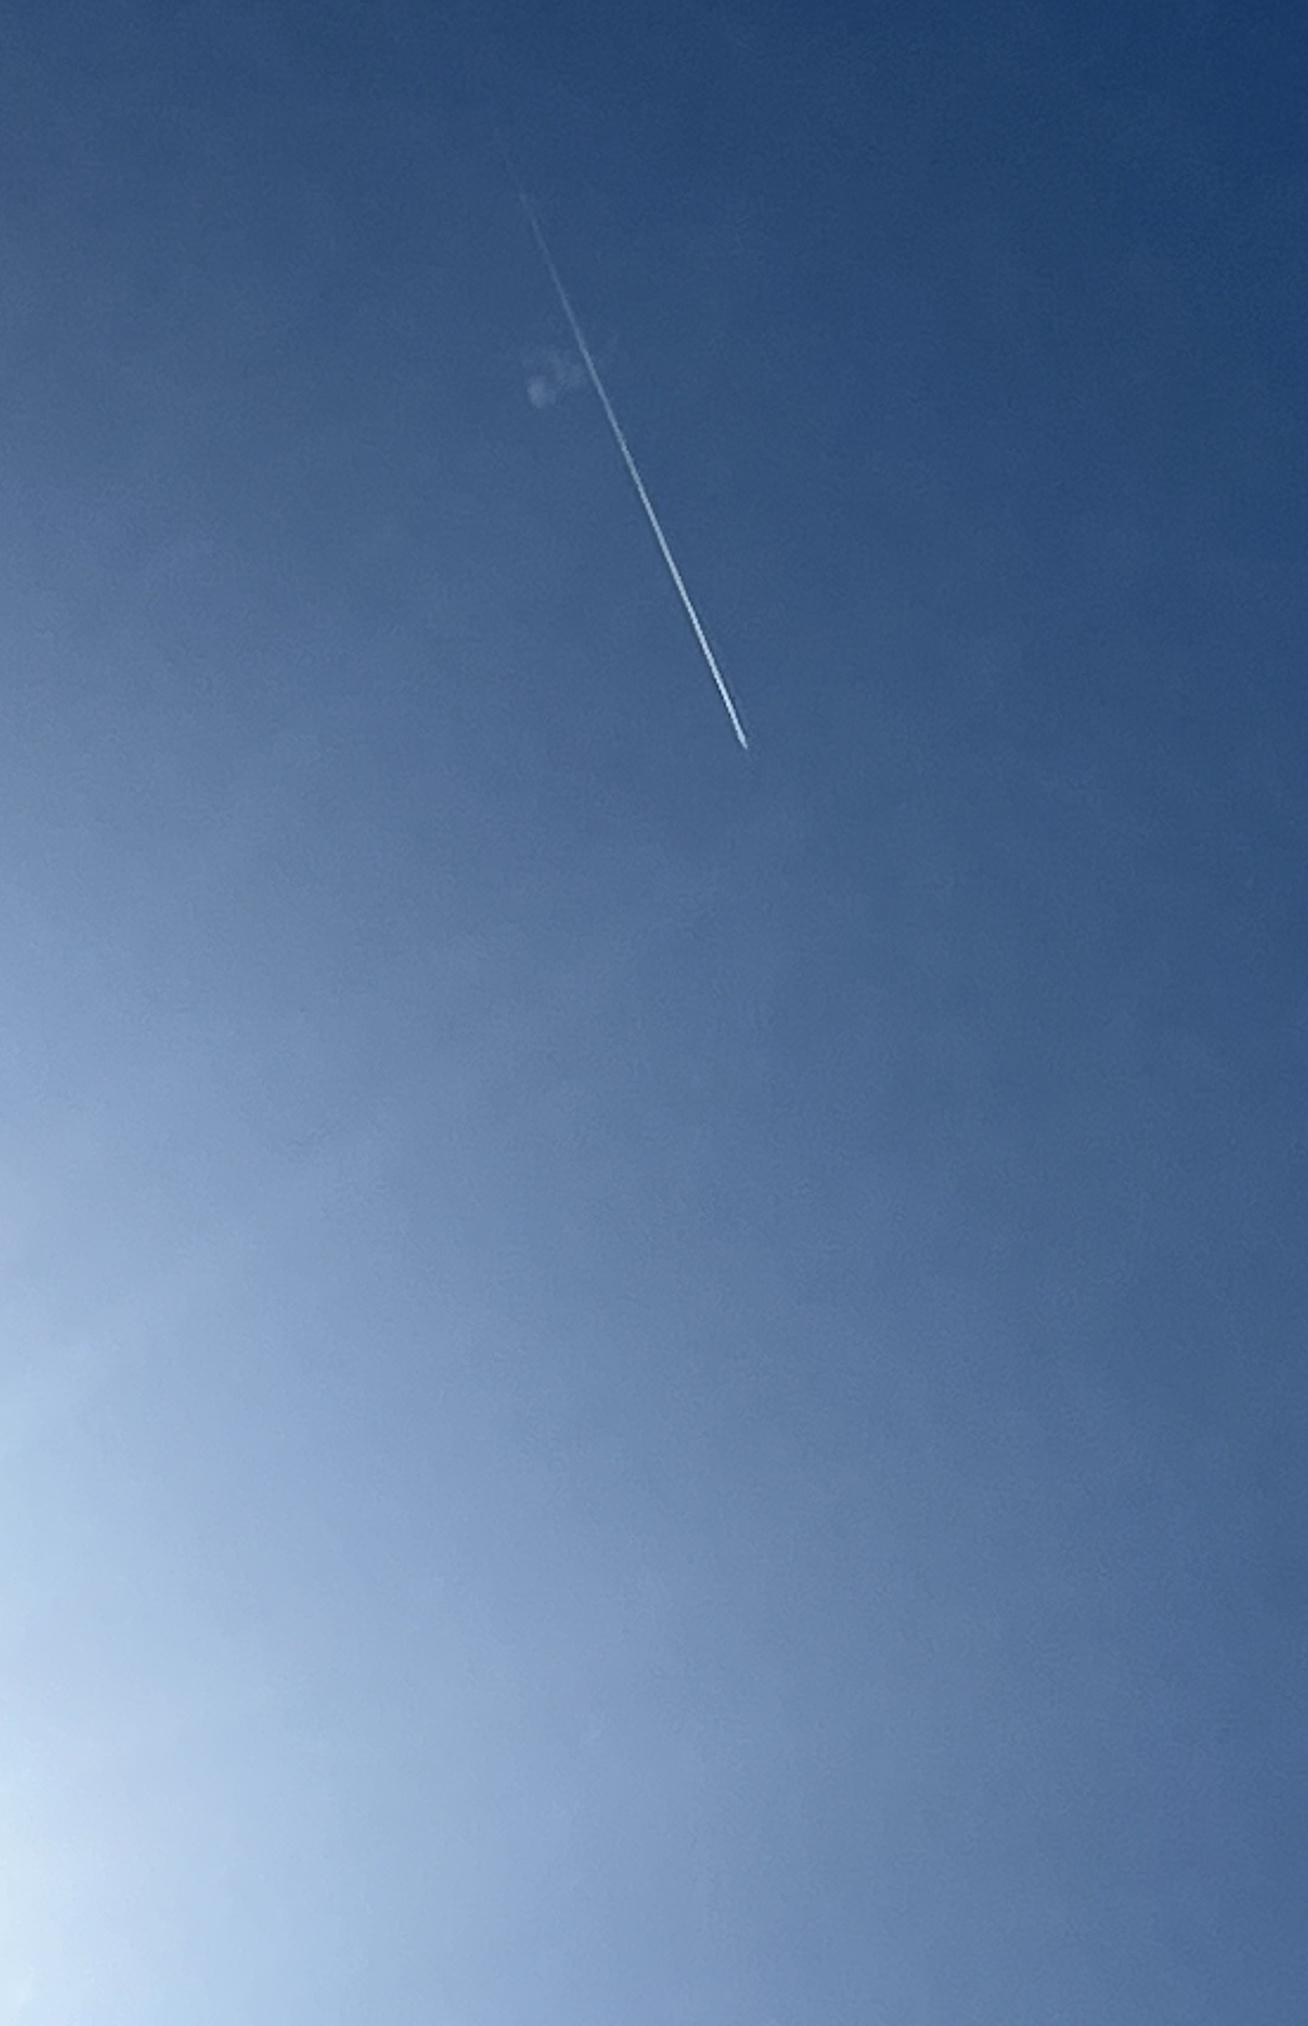Plane: (521, 316, 784, 800)
